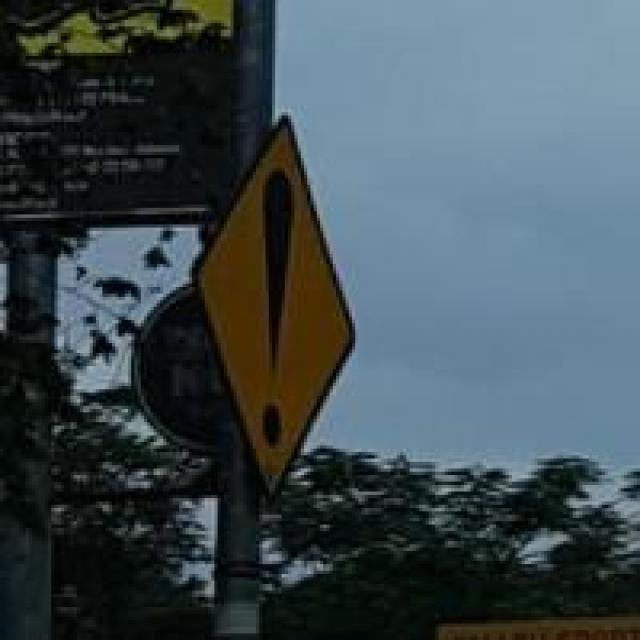traffic sign: (202, 122, 356, 498)
